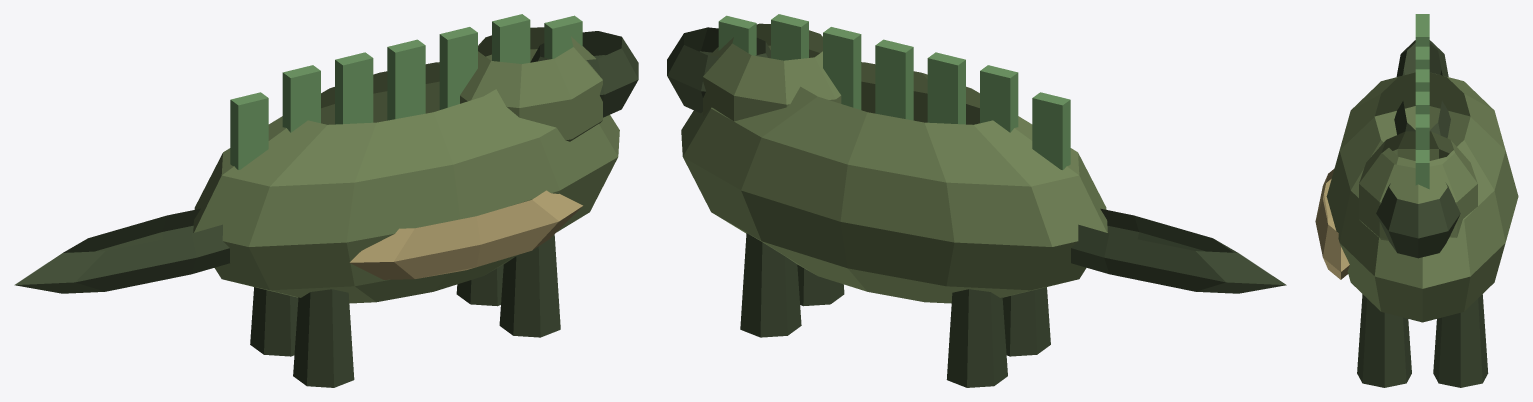
File: stego.obj
3 views of the same model, side by side, from view 1: azimuth 30°, elevation 25°; view 2: azimuth 150°, elevation 25°; view 3: azimuth 270°, elevation 25° (orthographic). The views are drawn at different scales.
Visible parts, largest first — view 1: stego; view 2: stego; view 3: stego.
Part boxes in pixels (<box>): stego: <box>14,14,638,387</box>; stego: <box>667,14,1286,387</box>; stego: <box>1315,14,1518,387</box>.
Size of the model in its own units: 4.52 by 2 by 1.44.
